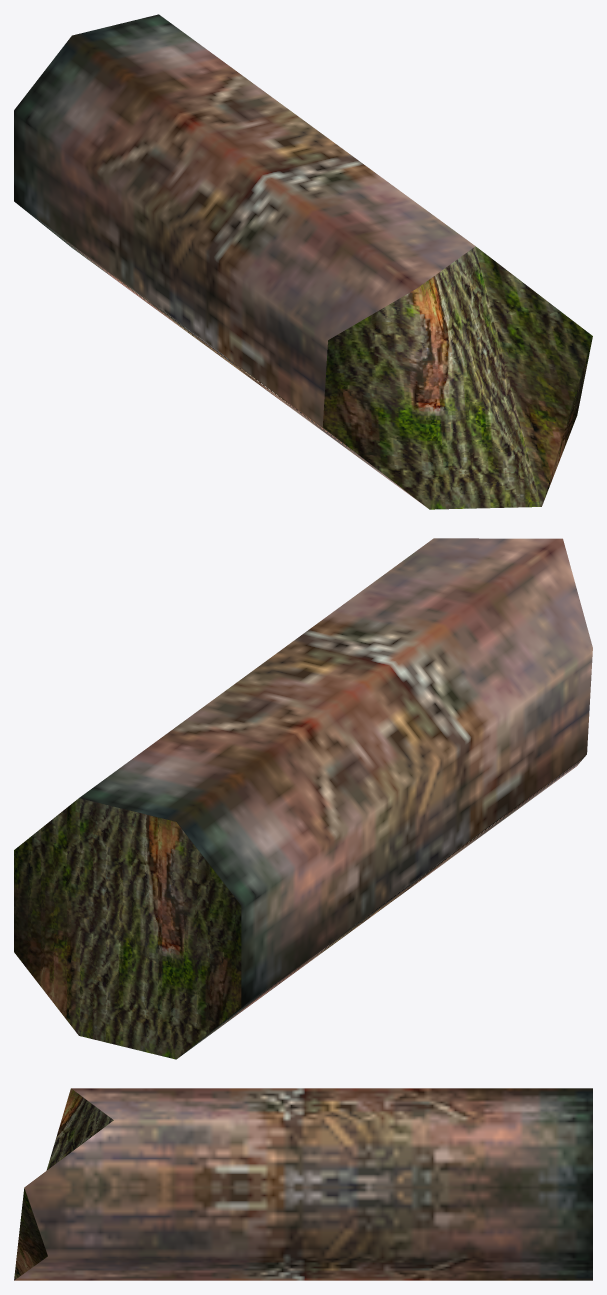
File: S_RFCyl4.glb
3 views of the same model, one above another, from view 1: azimuth 30°, elevation 25°; view 2: azimuth 150°, elevation 25°; view 3: azimuth 270°, elevation 25° (orthographic). The views are drawn at different scales.
Parts seen in each view (by area): view 1: S_RFCyl4-col; view 2: S_RFCyl4-col; view 3: S_RFCyl4-col.
Boxes of the visible parts, box(x1,y1,x2,y2) form: S_RFCyl4-col: box(14, 14, 592, 509); S_RFCyl4-col: box(14, 538, 592, 1059); S_RFCyl4-col: box(14, 1088, 592, 1280).
Bounding box in the file's own units: 0.495 × 0.495 × 1.62.
Materials: 2 (2 with a texture image).
